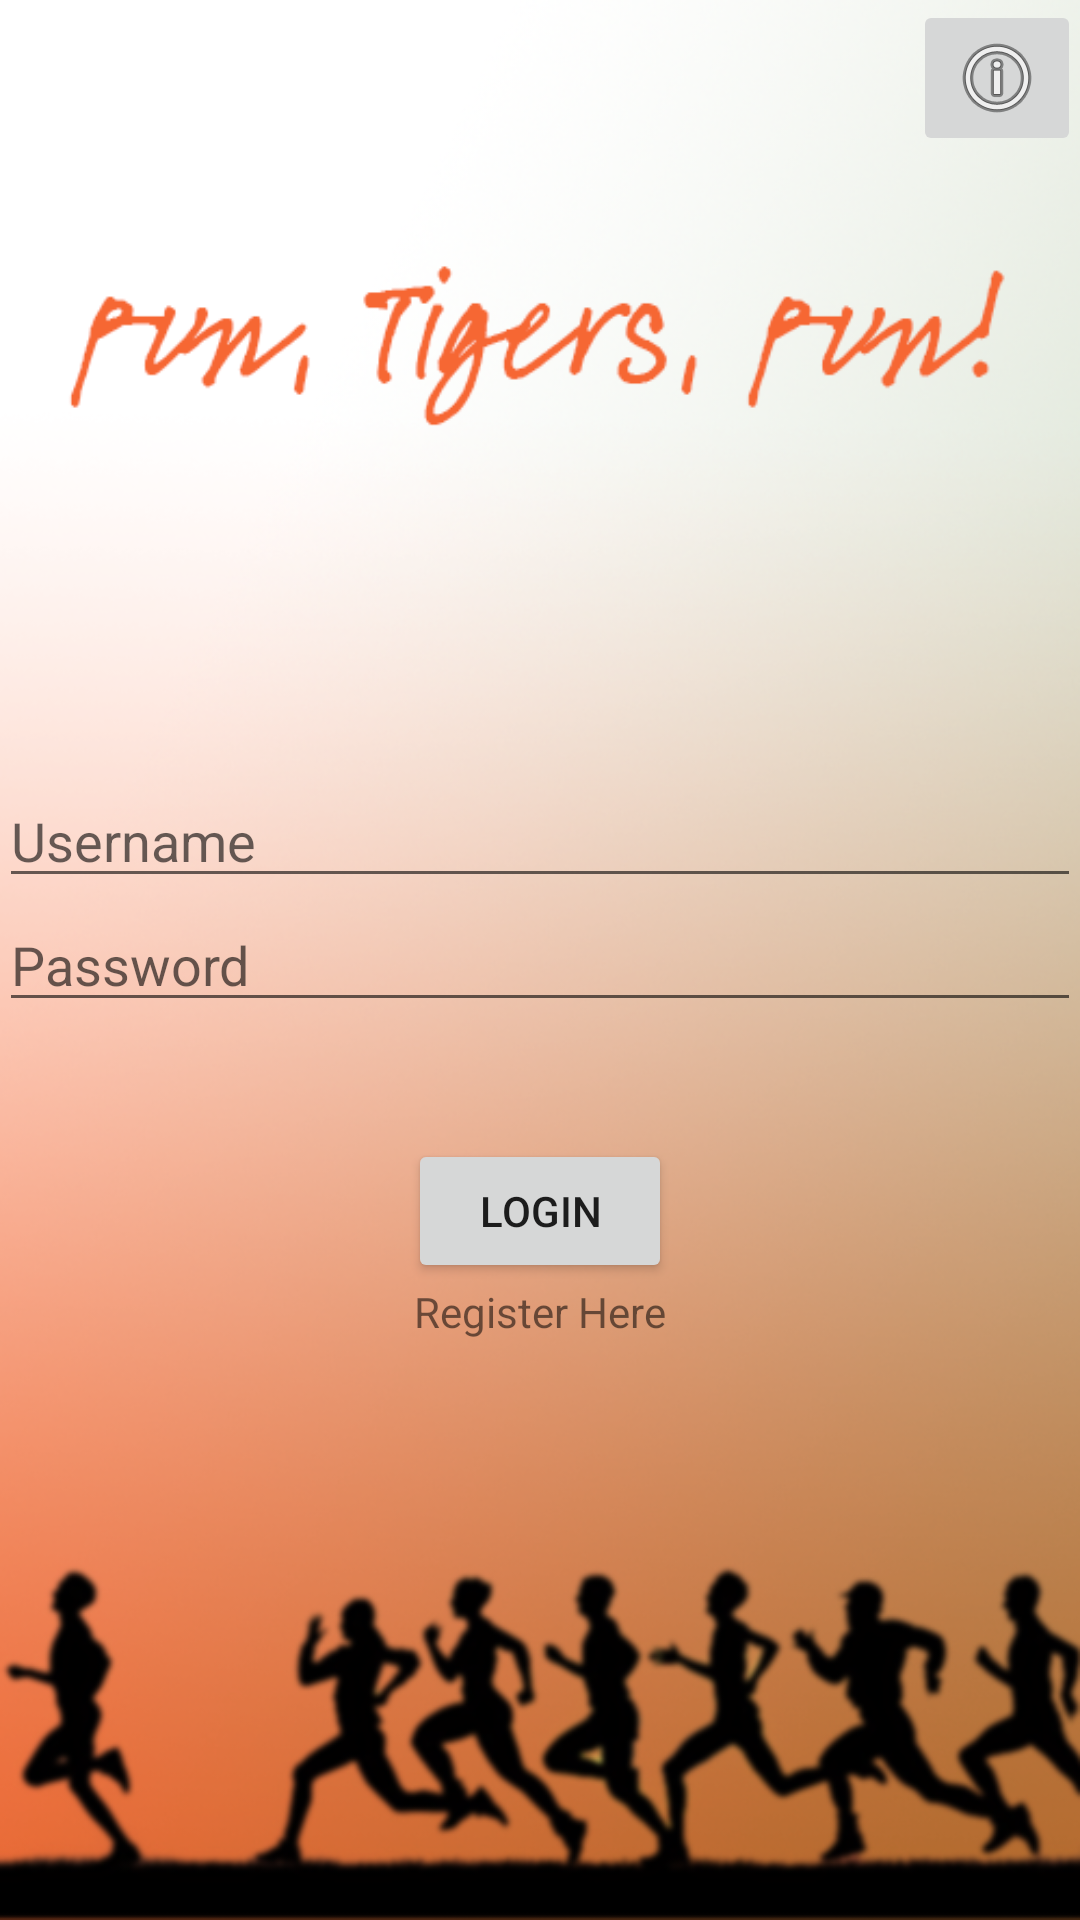

Where icons sit on this 1080*1920 app screen, as (x1=x1, y1=y1, x2=x2, y2=y2):
info details: (x1=925, y1=18, x2=1069, y2=138)
